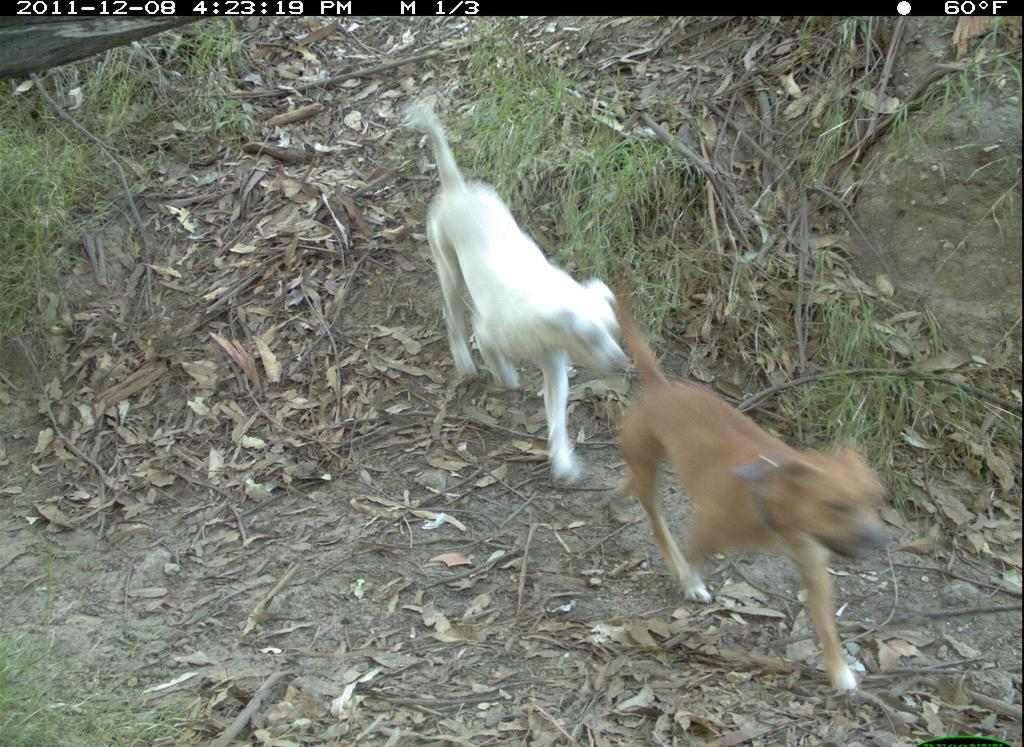dog: (597, 269, 903, 698), (374, 80, 626, 520)
